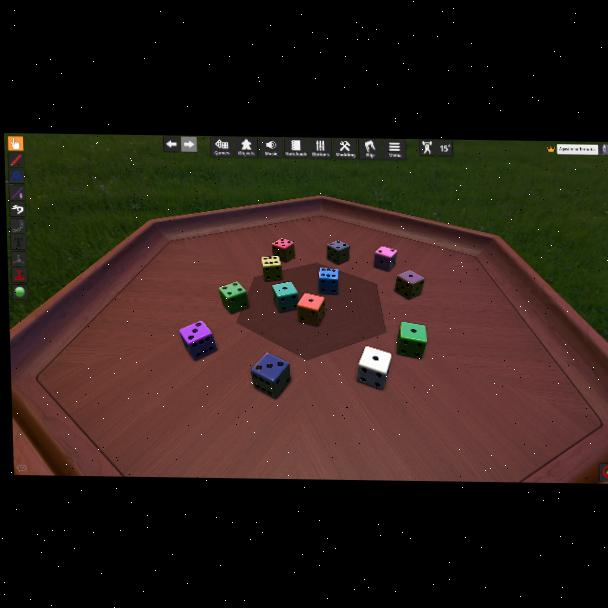d6: (250, 353, 292, 399), (356, 345, 391, 390), (179, 321, 217, 361), (396, 321, 427, 359), (219, 282, 249, 315), (297, 293, 325, 326), (394, 271, 424, 301), (271, 281, 298, 313), (271, 238, 295, 264), (374, 246, 397, 273), (325, 240, 348, 266), (261, 255, 282, 283), (318, 267, 339, 294)
